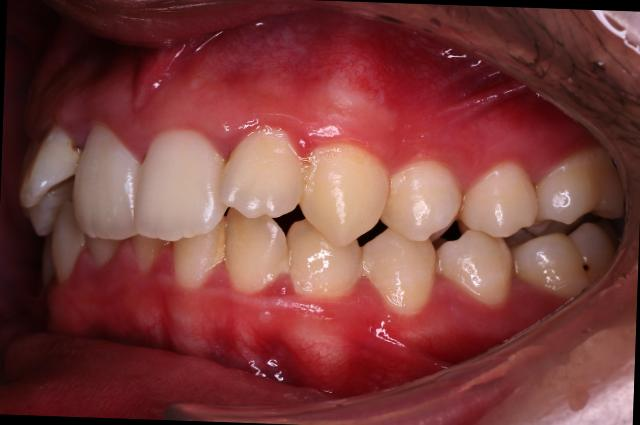canine class II 1/4: (282, 134, 438, 332)
molar class I: (510, 140, 630, 330)
